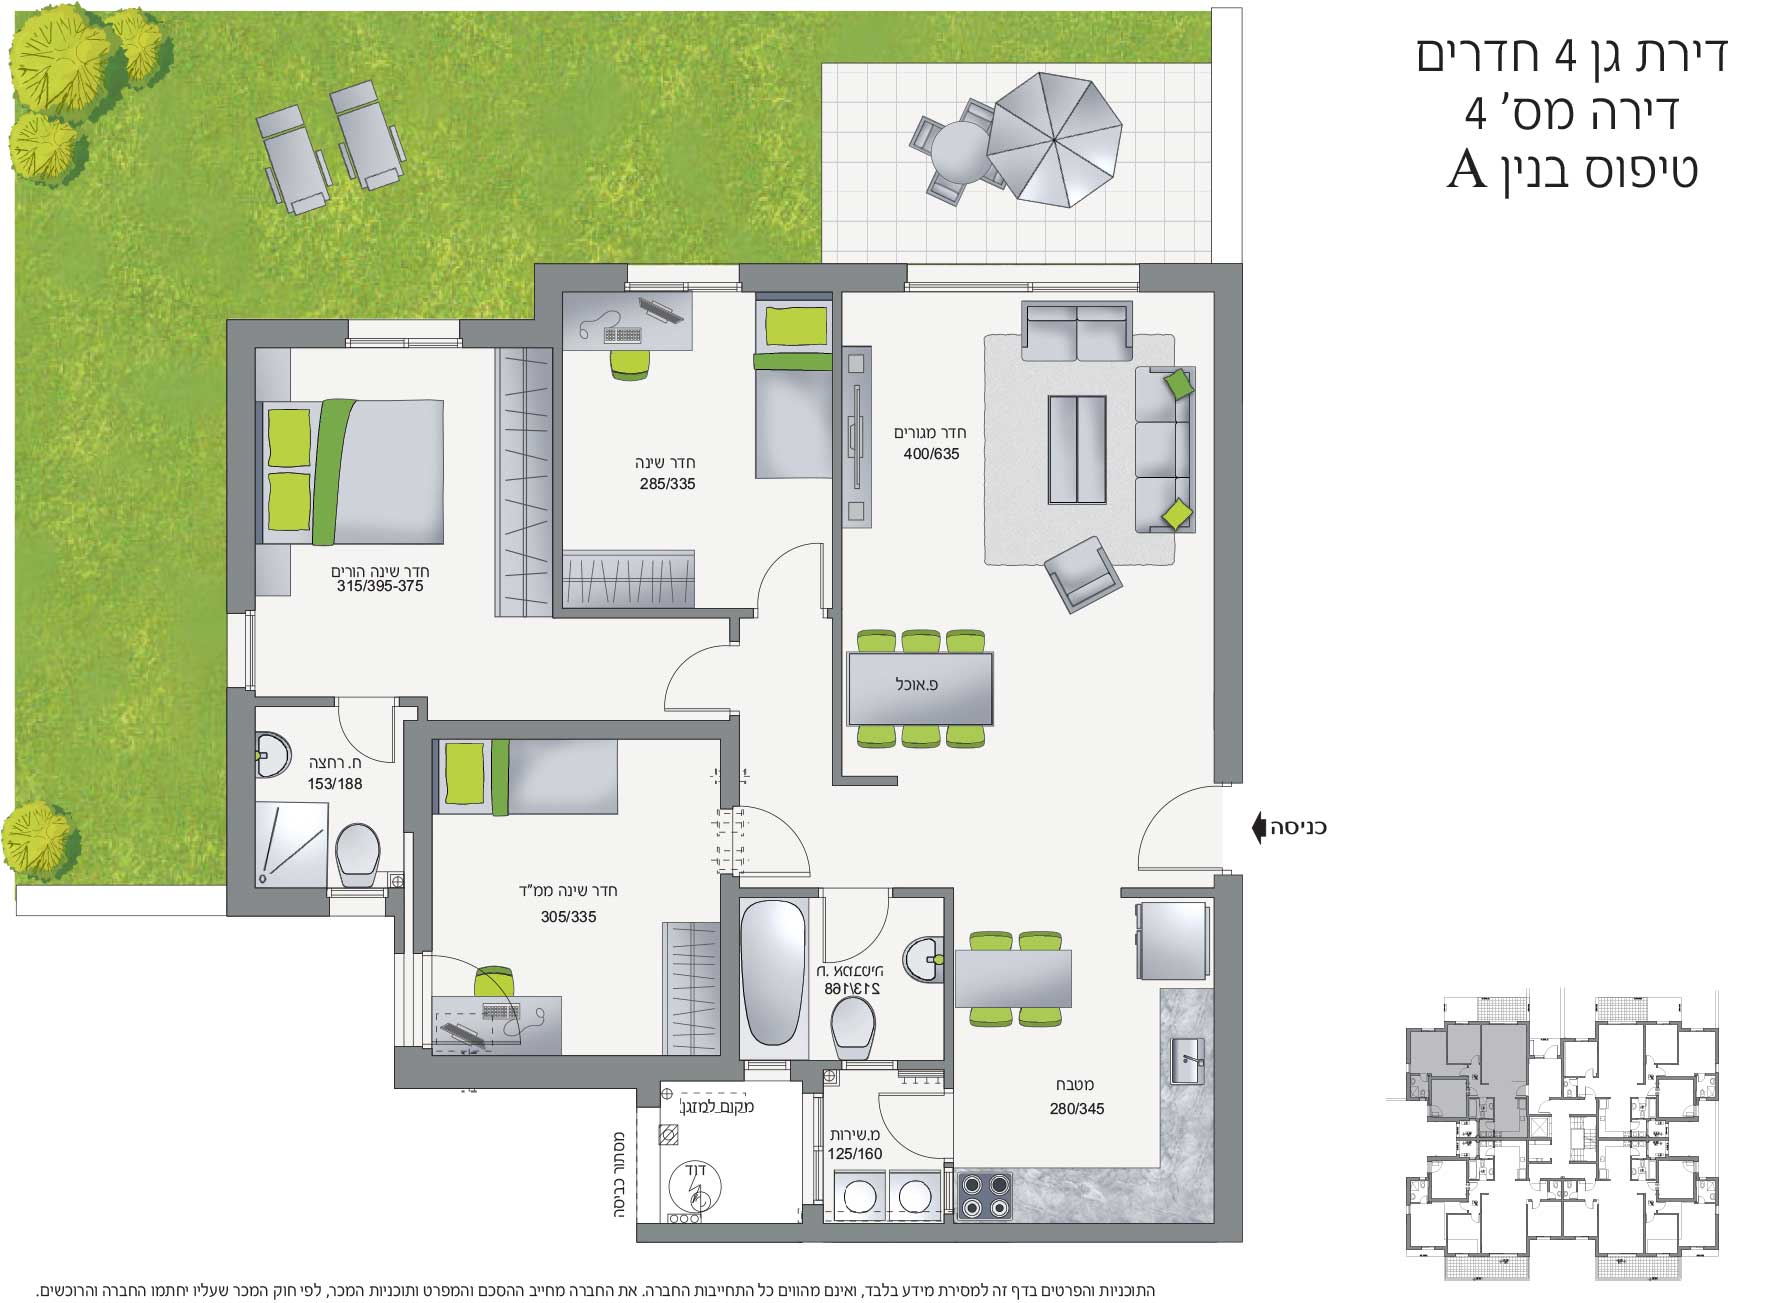door: (434, 950, 520, 1049), (643, 627, 722, 716), (1127, 788, 1200, 881), (752, 796, 819, 881), (874, 1086, 936, 1164), (818, 904, 899, 964), (331, 712, 403, 771), (763, 535, 829, 592)
wall: (1214, 263, 1242, 775), (635, 1222, 1246, 1243), (1215, 874, 1244, 1221), (225, 320, 257, 614), (395, 1053, 659, 1087), (225, 684, 257, 920), (832, 290, 841, 789), (740, 264, 901, 289), (417, 719, 432, 953), (225, 319, 342, 348), (461, 318, 561, 344), (553, 348, 561, 614), (945, 889, 956, 1087), (555, 608, 752, 619), (894, 888, 954, 899)
window: (346, 320, 459, 355), (903, 263, 1030, 287), (627, 265, 740, 293), (1030, 264, 1138, 290), (329, 888, 385, 924), (230, 614, 257, 684), (804, 1095, 822, 1203), (411, 953, 430, 1045), (745, 1058, 786, 1087)
